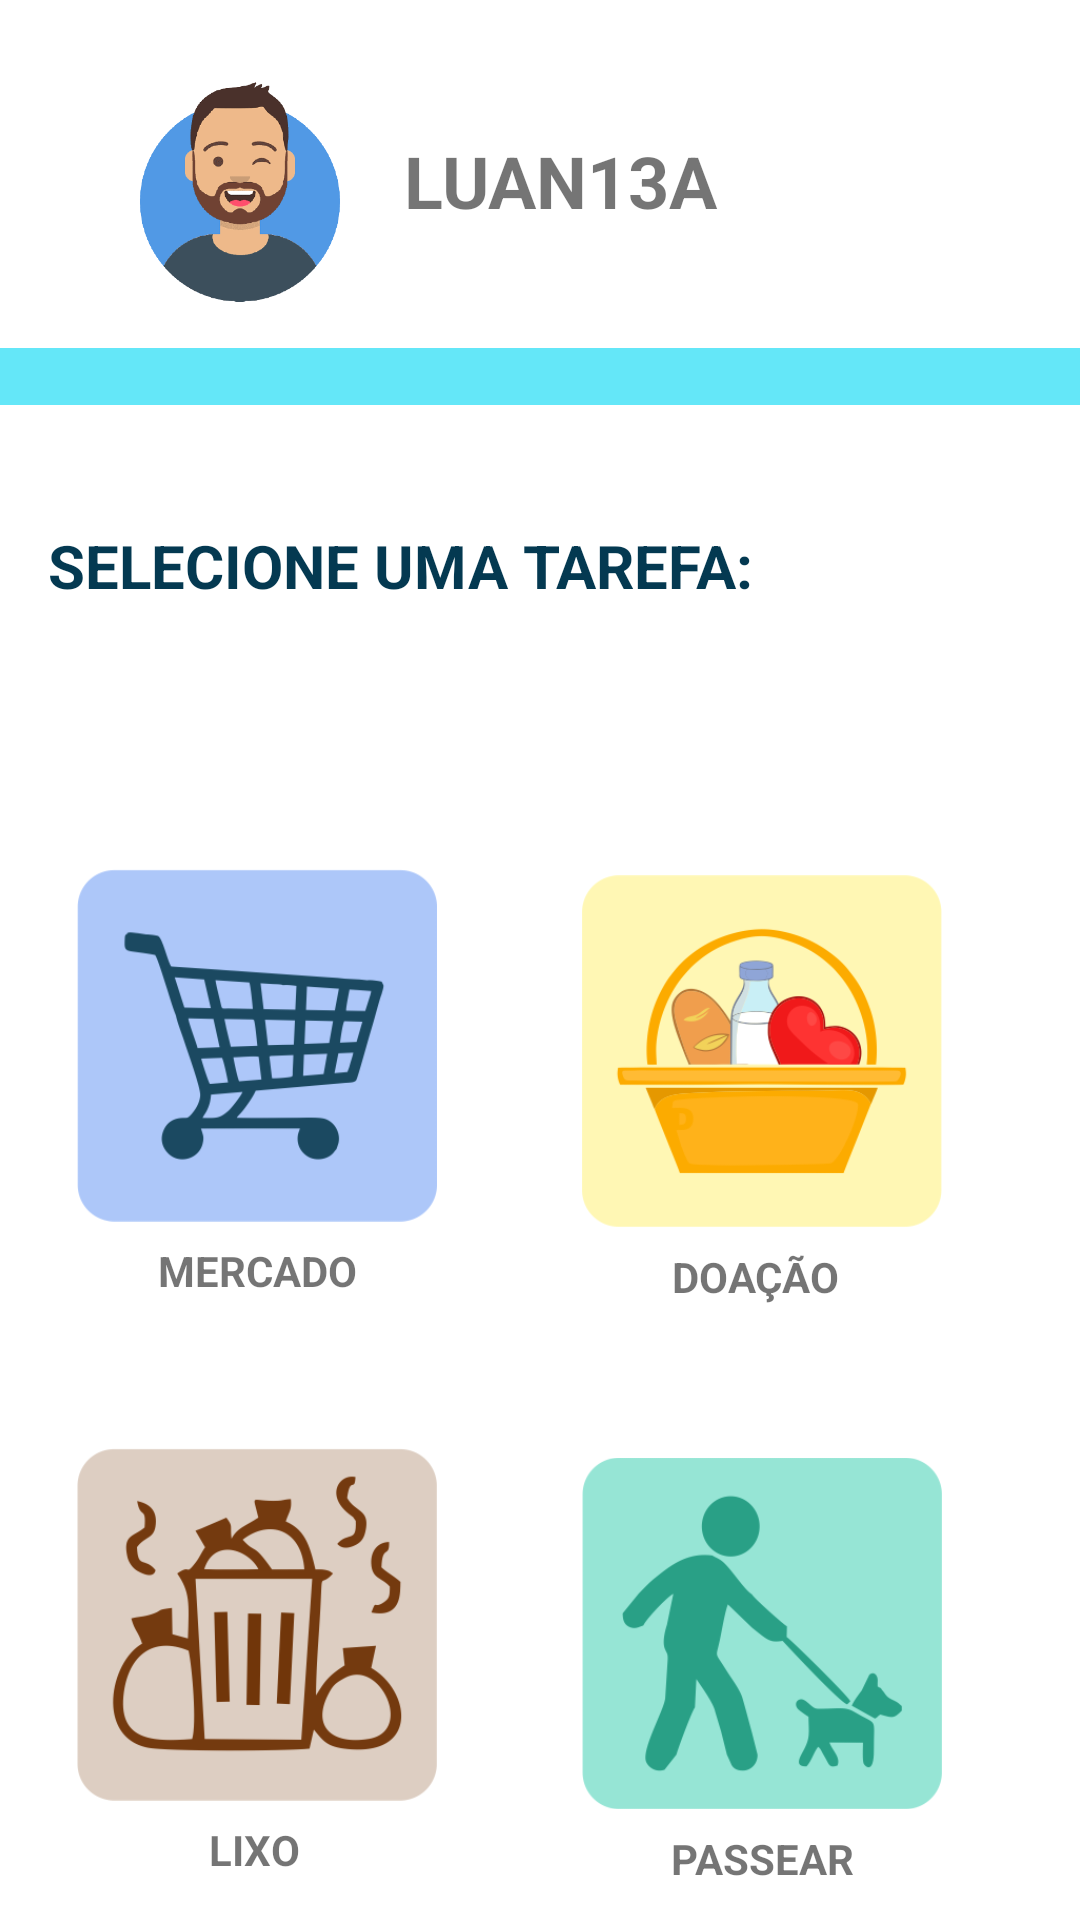

Screen size 1080px x 1920px. Icon name, then its box in pixels as (x1, y1, x2, y2):
perfilimagem: (140, 82, 340, 302)
